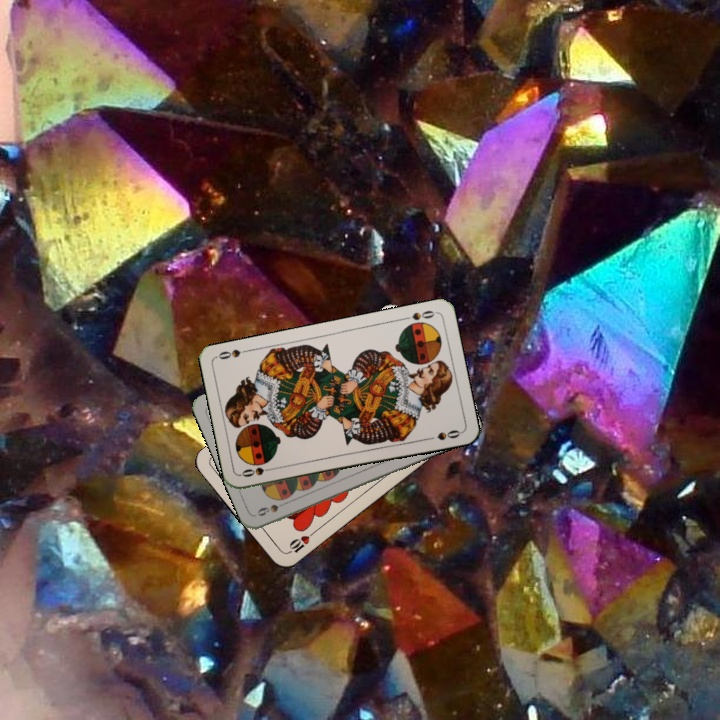H10: (283, 527, 318, 557)
S9: (253, 497, 293, 519)
SO: (237, 463, 278, 480), (398, 306, 439, 323)
